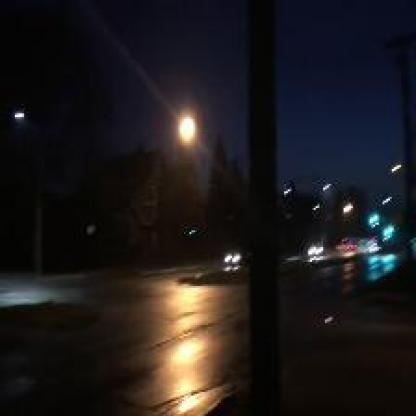other: (160, 298, 197, 412), (328, 184, 372, 266), (158, 103, 216, 150)
